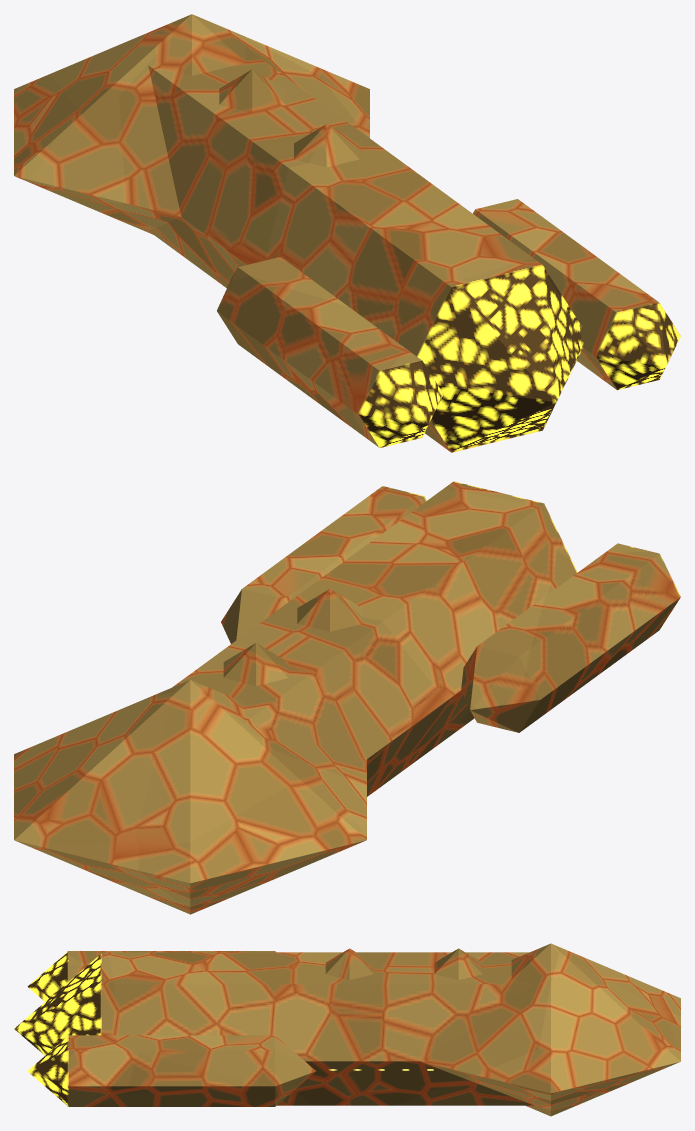
File: vraygon_heavy_cruiser.glb
3 views of the same model, one above another, from view 1: azimuth 30°, elevation 25°; view 2: azimuth 150°, elevation 25°; view 3: azimuth 270°, elevation 25° (orthographic). The views are drawn at different scales.
Parts seen in each view (by area): view 1: VraygonHeavyCruiser; view 2: VraygonHeavyCruiser; view 3: VraygonHeavyCruiser.
Boxes of the visible parts, bbox=[...] form: VraygonHeavyCruiser: bbox=[14, 14, 680, 452]; VraygonHeavyCruiser: bbox=[14, 481, 680, 914]; VraygonHeavyCruiser: bbox=[14, 943, 680, 1116].
Bounding box in the file's own units: 22.51 × 14.31 × 50.
1 material, 1 textured.
